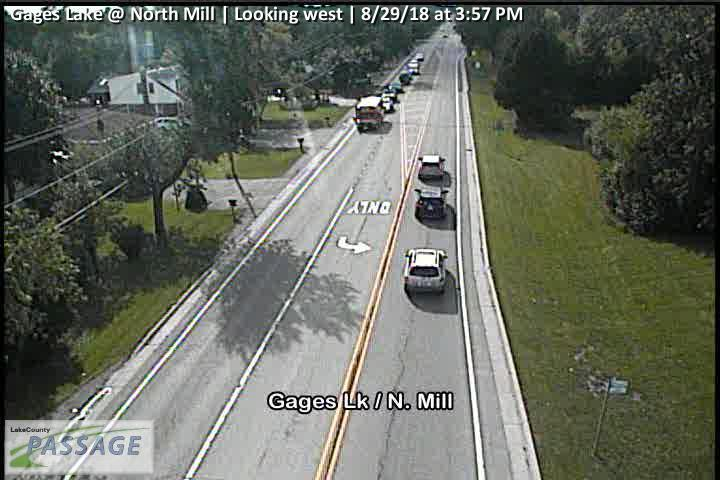Bus: (354, 96, 384, 131)
SUV: (402, 248, 448, 294), (413, 187, 449, 219), (417, 155, 446, 180)
Sedan: (381, 97, 393, 111), (381, 89, 396, 100), (399, 71, 411, 83), (389, 82, 402, 91), (408, 62, 418, 73), (415, 52, 424, 60)
